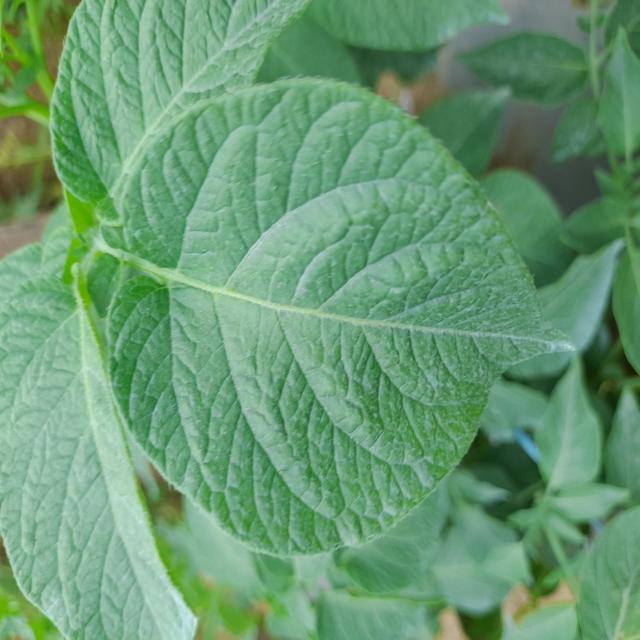healthy: (80, 73, 575, 561)
